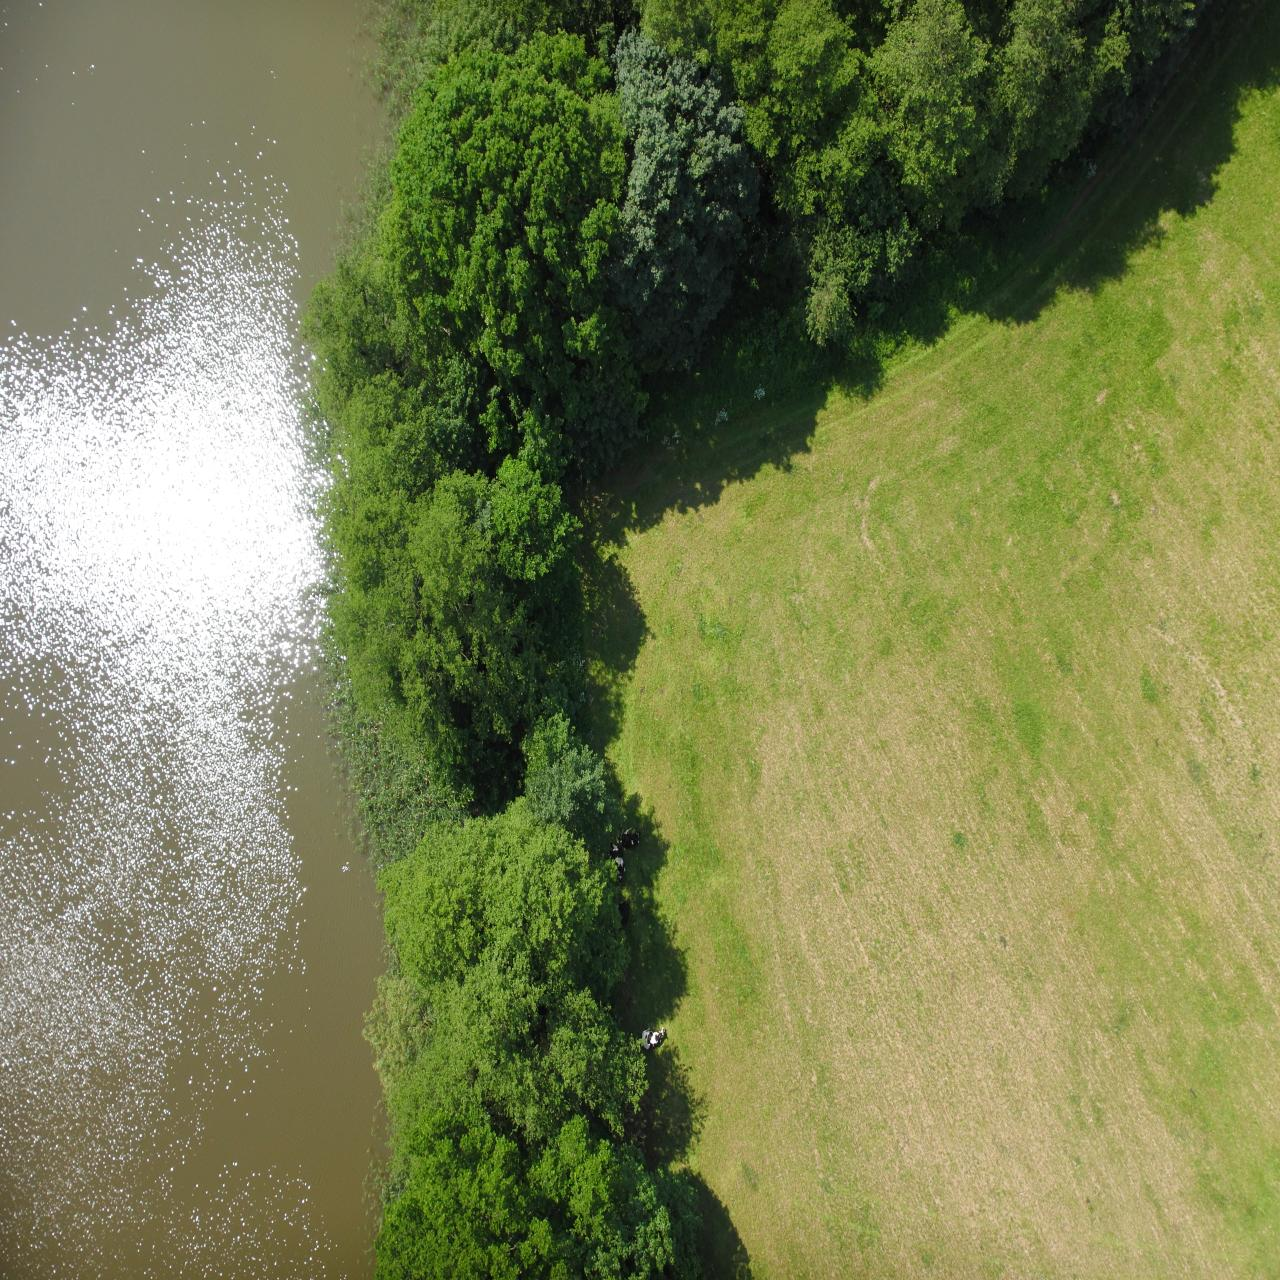cow: (640, 428, 660, 454), (616, 231, 638, 254)
